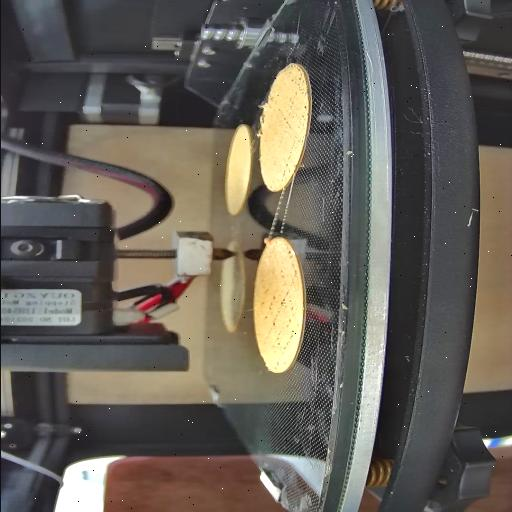under_extrusion: (260, 290, 298, 352), (276, 78, 308, 134), (280, 250, 298, 280), (278, 150, 294, 180)
